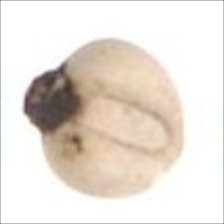L5: (71, 87, 172, 156), (20, 65, 81, 137), (158, 113, 185, 179)
L6: (20, 35, 189, 199)
